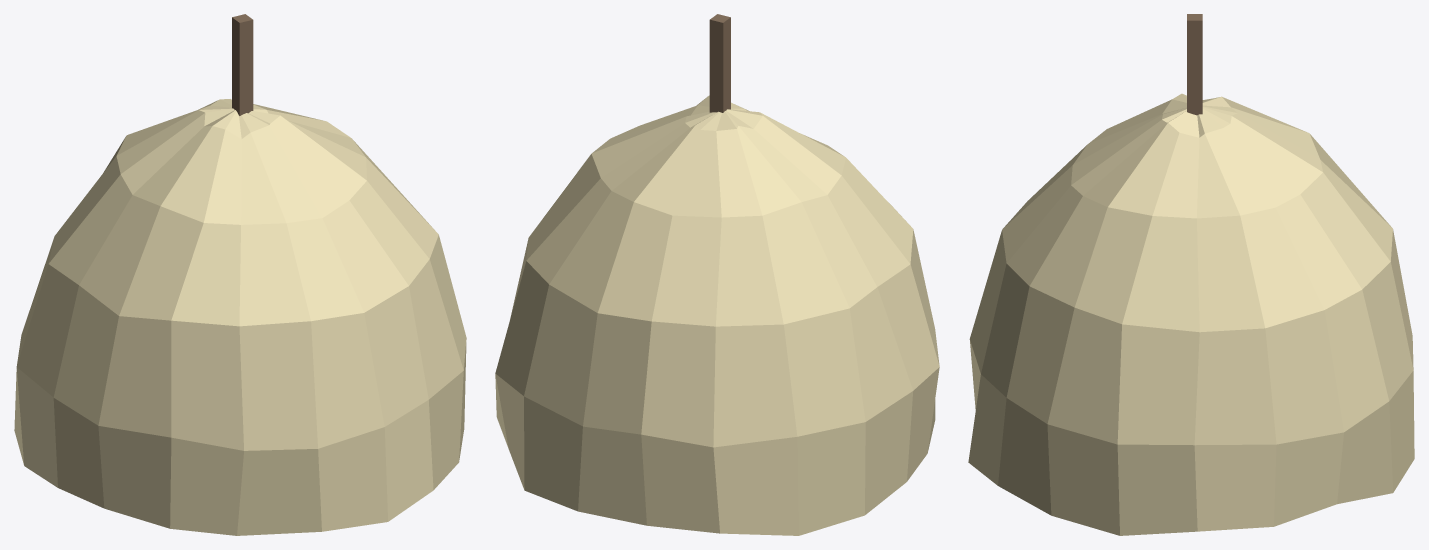
File: haystack.glb
The picture shows the model from 3 angles, left to right: view 1: azimuth 30°, elevation 25°; view 2: azimuth 150°, elevation 25°; view 3: azimuth 270°, elevation 25°; orthographic projection.
Parts seen in each view (by area): view 1: haystack; view 2: haystack; view 3: haystack.
Boxes of the visible parts, x1,y1,x2,y2 form: haystack: [14, 14, 466, 535]; haystack: [495, 14, 939, 535]; haystack: [968, 14, 1414, 535].
Bounding box in the file's own units: 2.29 × 2.44 × 2.29.
